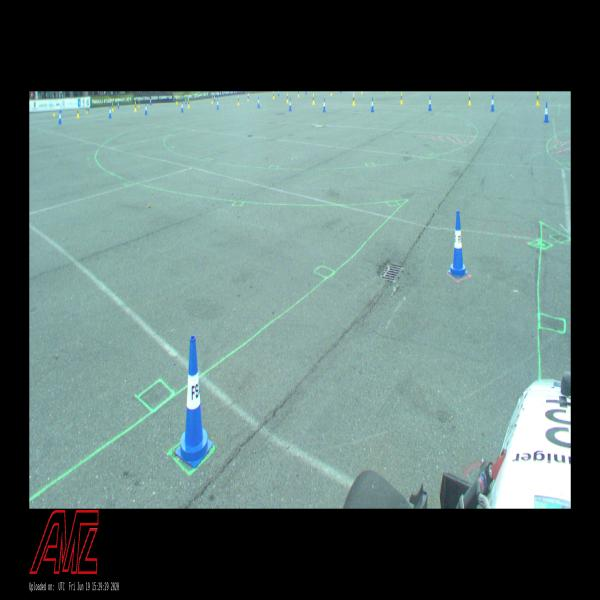blue_cone: (176, 335, 212, 467), (448, 211, 467, 277), (544, 102, 549, 122), (491, 95, 494, 111), (429, 95, 432, 110), (371, 97, 374, 112), (323, 98, 326, 112), (289, 98, 291, 111), (59, 111, 61, 123), (109, 106, 111, 118), (258, 97, 260, 108), (145, 104, 147, 114), (217, 100, 219, 109), (60, 105, 62, 112), (182, 102, 183, 112), (305, 91, 307, 95), (88, 104, 89, 111), (118, 102, 119, 108), (150, 99, 151, 105), (214, 95, 215, 101), (278, 91, 279, 96), (186, 97, 186, 104)
yellow_cone: (536, 91, 539, 106), (400, 92, 403, 103), (134, 102, 137, 112), (468, 93, 470, 105), (352, 94, 354, 106), (77, 108, 79, 118), (312, 94, 314, 104), (112, 103, 114, 111), (53, 108, 55, 116), (138, 100, 140, 108), (247, 94, 249, 101), (176, 97, 178, 104), (86, 107, 88, 113), (188, 98, 189, 108), (287, 93, 288, 102), (238, 96, 239, 105), (273, 91, 274, 99), (212, 96, 213, 103), (298, 91, 299, 97), (330, 92, 332, 95), (361, 91, 362, 94)
